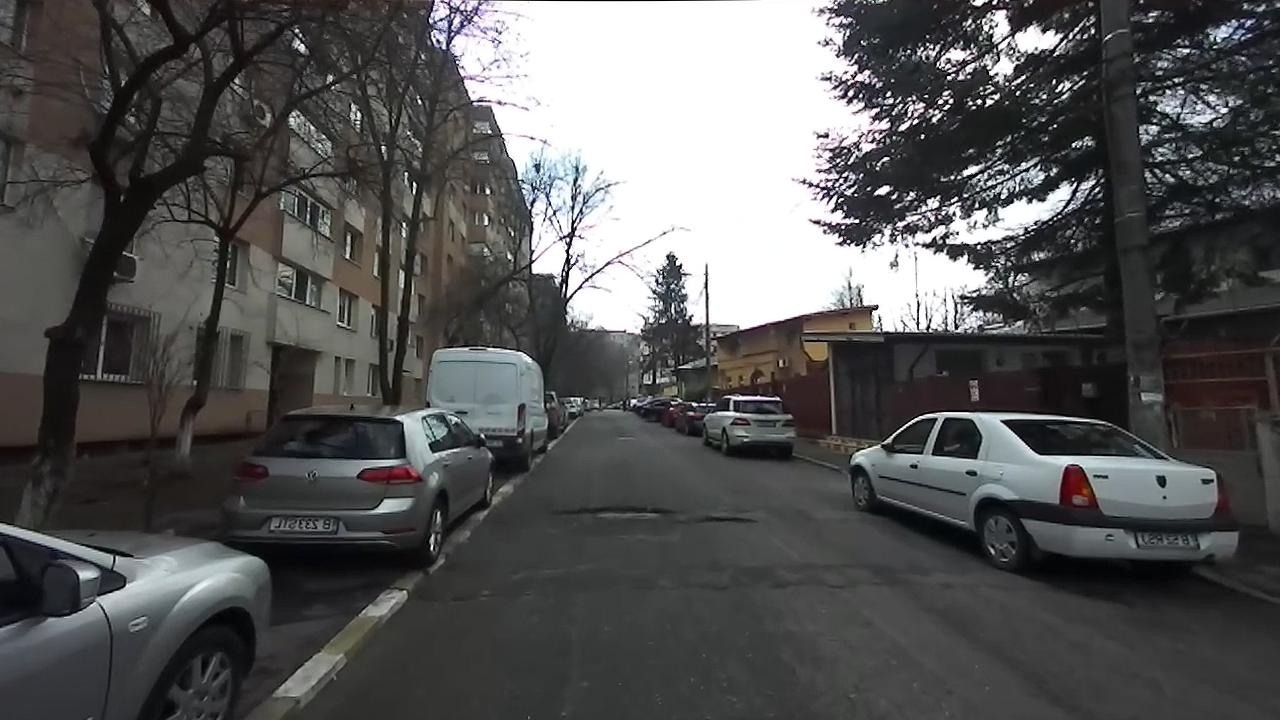pothole: (549, 502, 677, 524), (689, 513, 758, 527)
